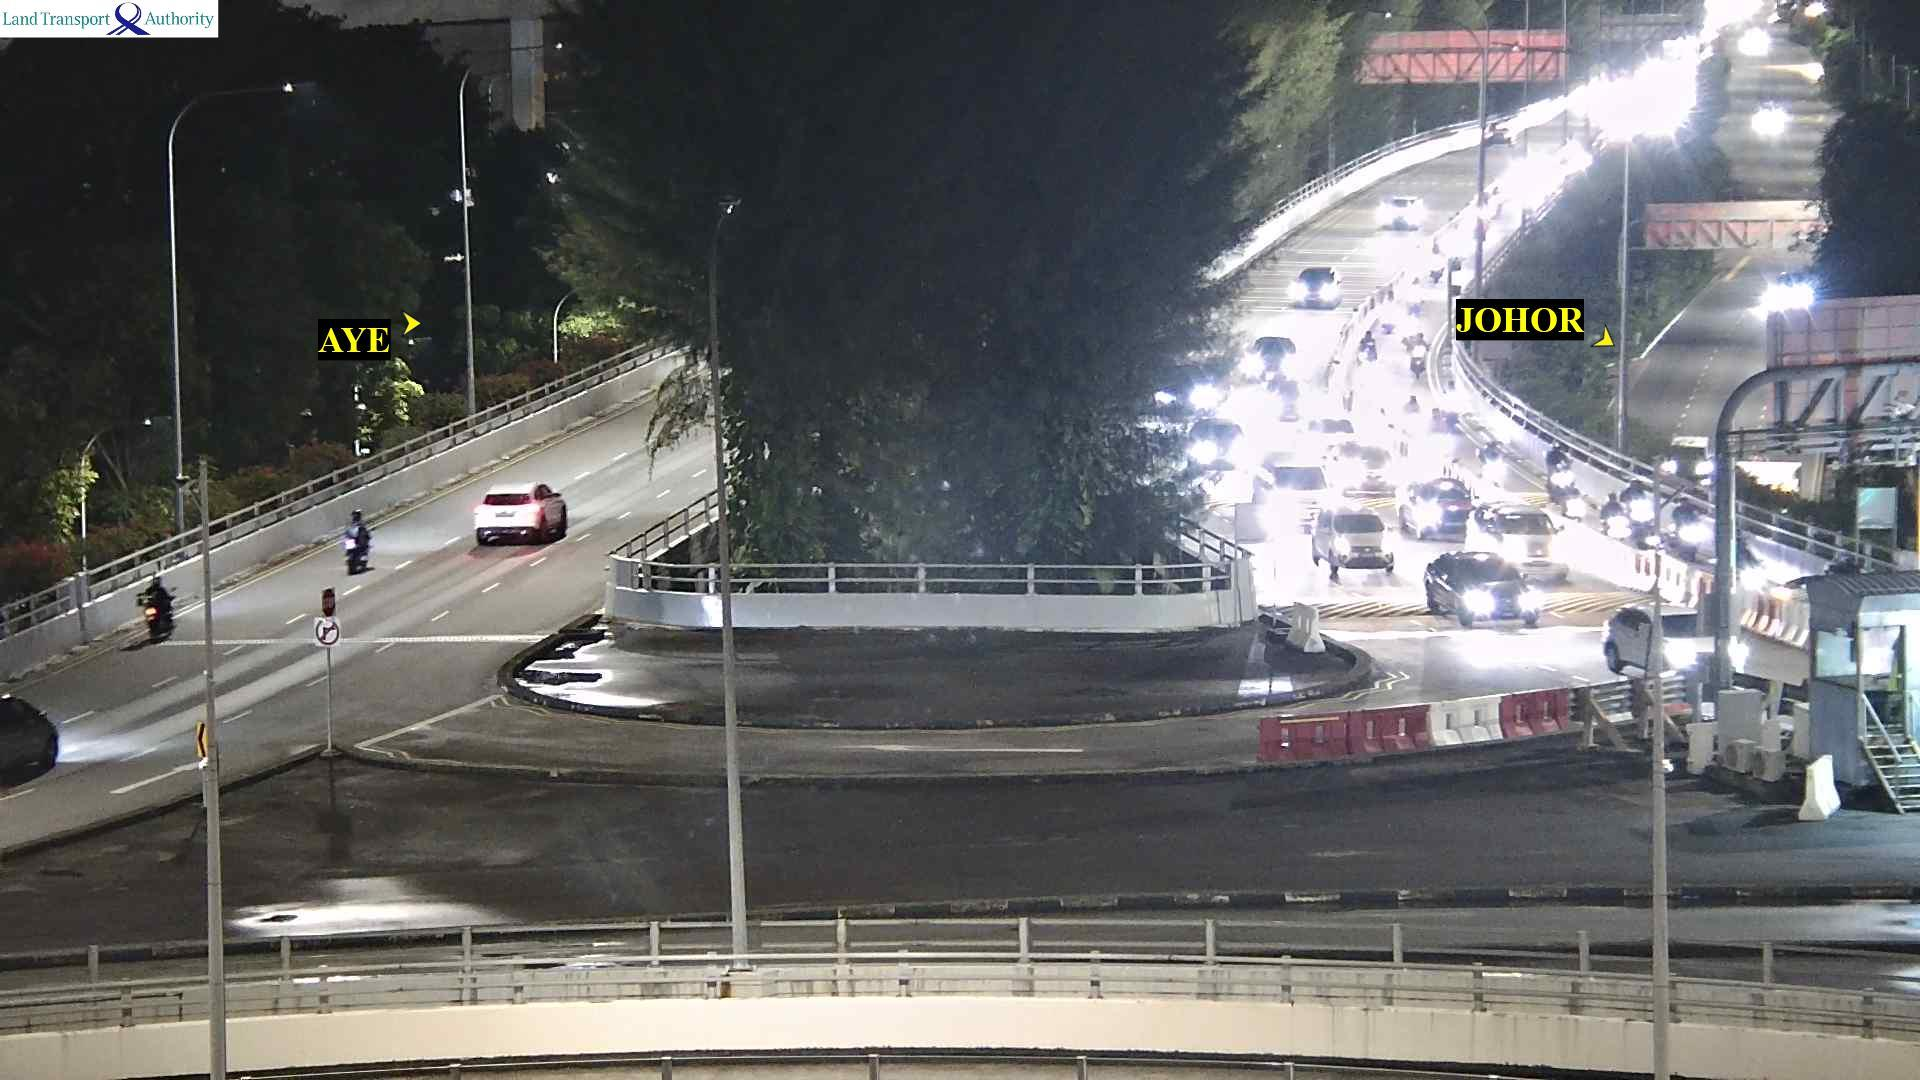vehicle-secondlink-johor: (1606, 609, 1782, 688), (1424, 555, 1569, 629), (1331, 480, 1484, 538), (1303, 514, 1407, 566), (1255, 454, 1335, 491), (1284, 265, 1346, 311), (1477, 499, 1563, 531), (1375, 194, 1428, 231), (1388, 199, 1439, 237), (1544, 441, 1573, 498), (1249, 335, 1291, 373), (1270, 382, 1300, 423), (1311, 416, 1359, 441), (1480, 437, 1504, 482), (1623, 519, 1655, 550), (1407, 332, 1427, 377)
vehicle-secondlink-singapore: (0, 694, 63, 789), (477, 481, 568, 544), (334, 511, 373, 573), (134, 581, 174, 638), (350, 513, 383, 579)
